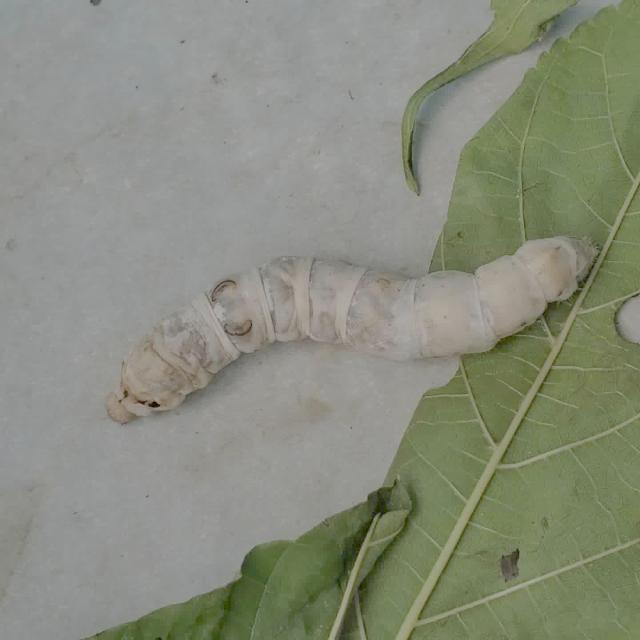Grasserie: (66, 209, 605, 455)
